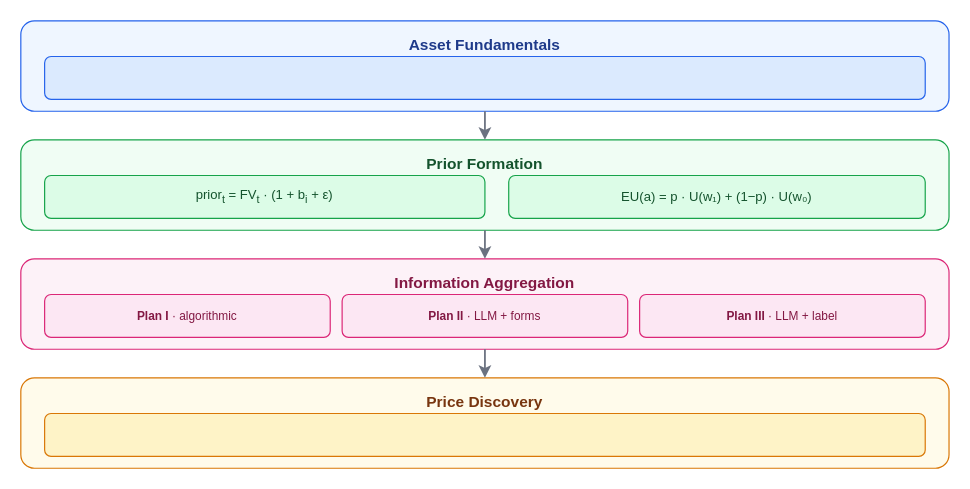
Image size: 970x489. Some labels were removed from this diagram. The centre of each missing label's shape, as x and y in pixels:
"CDA: bid ≥ ask ⇒ trade | R² · ND · A · TO" belongs at point (484, 434).
"FV t = 𝔼[d] · (T − t + 1), d ∈ {0,20}¢, T = 10" belongs at point (484, 77).
